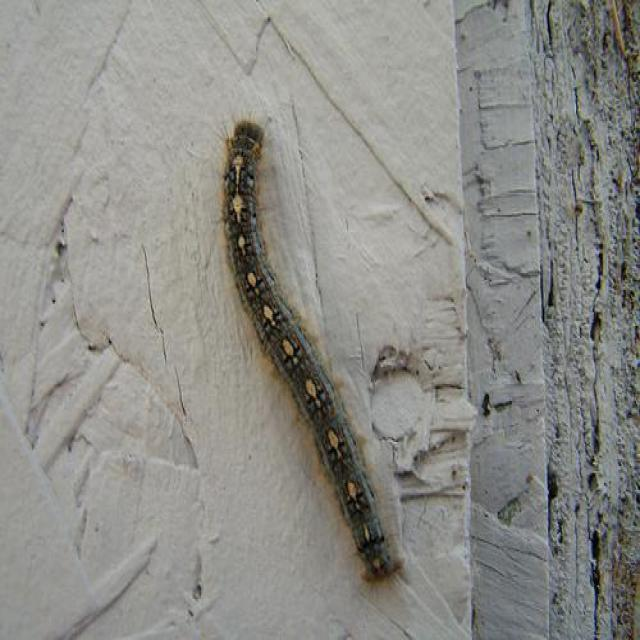Plaga: (214, 110, 416, 600)
